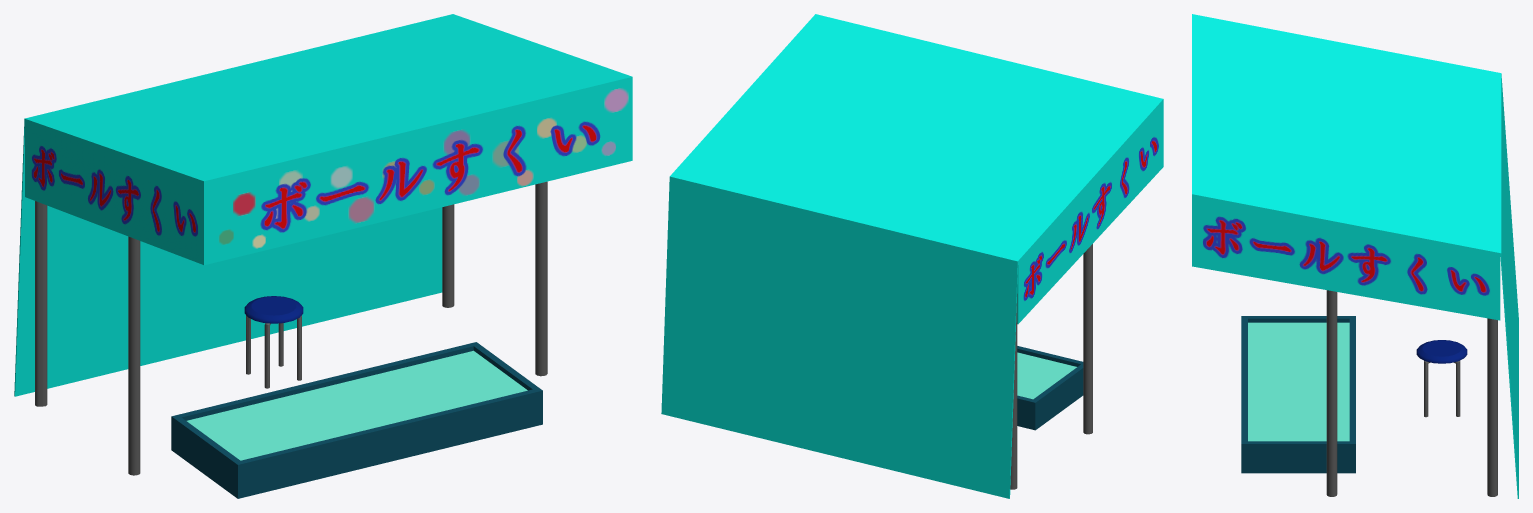
The model's file is yatai_part2.FBX.
3 renders of one model, left to right at view 1: azimuth 30°, elevation 25°; view 2: azimuth 150°, elevation 25°; view 3: azimuth 270°, elevation 25°, orthographic. The views are drawn at different scales.
Visible parts, largest first — view 1: Cylinder001; view 2: Cylinder001; view 3: Cylinder001.
Part boxes in pixels (bbox=[...]): Cylinder001: bbox=[14, 14, 632, 498]; Cylinder001: bbox=[661, 14, 1163, 498]; Cylinder001: bbox=[1192, 14, 1518, 498].
Size of the model in its own units: 211 by 166 by 161.
2 materials, 1 textured.
